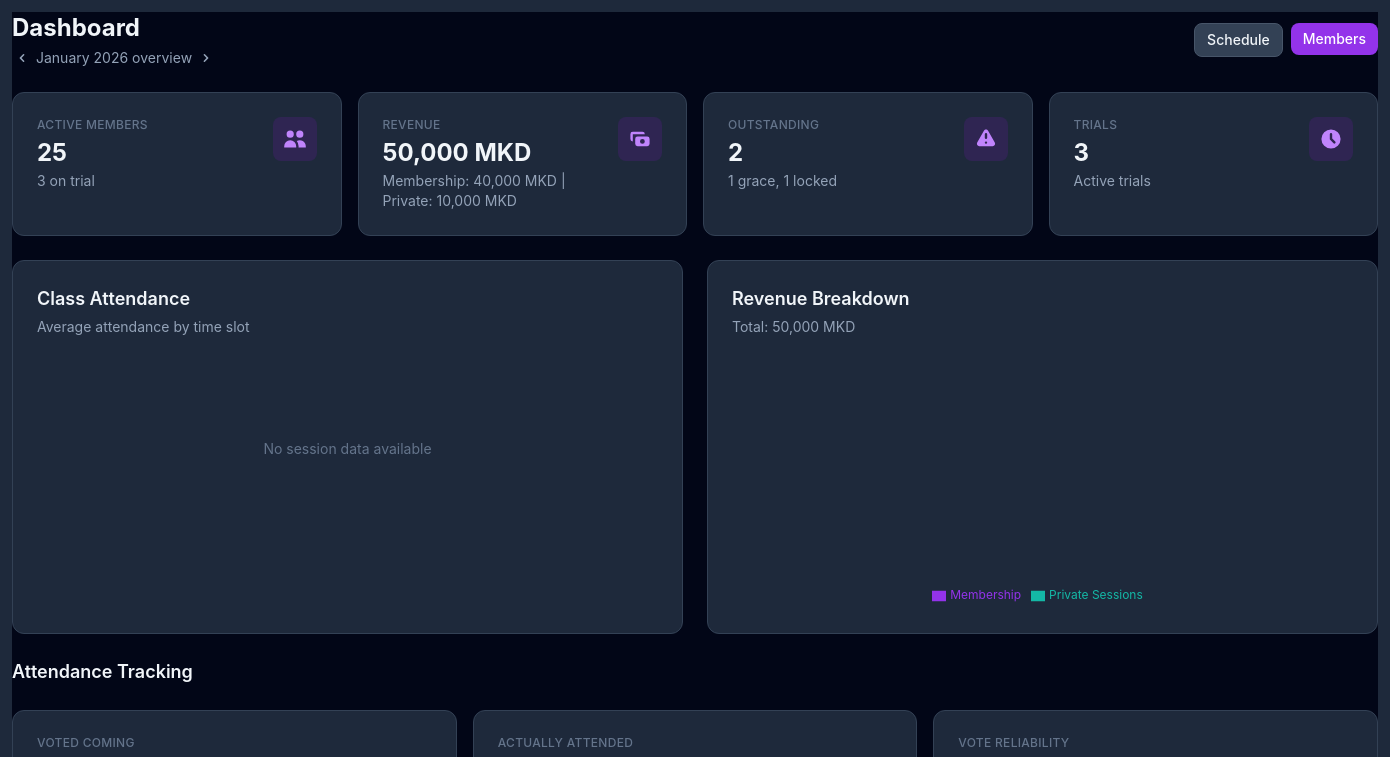
Test case: DashboardClient month navigator › wraps from January to December of previous year
Expected: the text "January 2026 overview" is shown, [36,48,192,68]
What coordinates should you click on to do the following:
click the button named "Previous month"
I would click on:
 (22, 58)
Its box is [12,48,32,68].
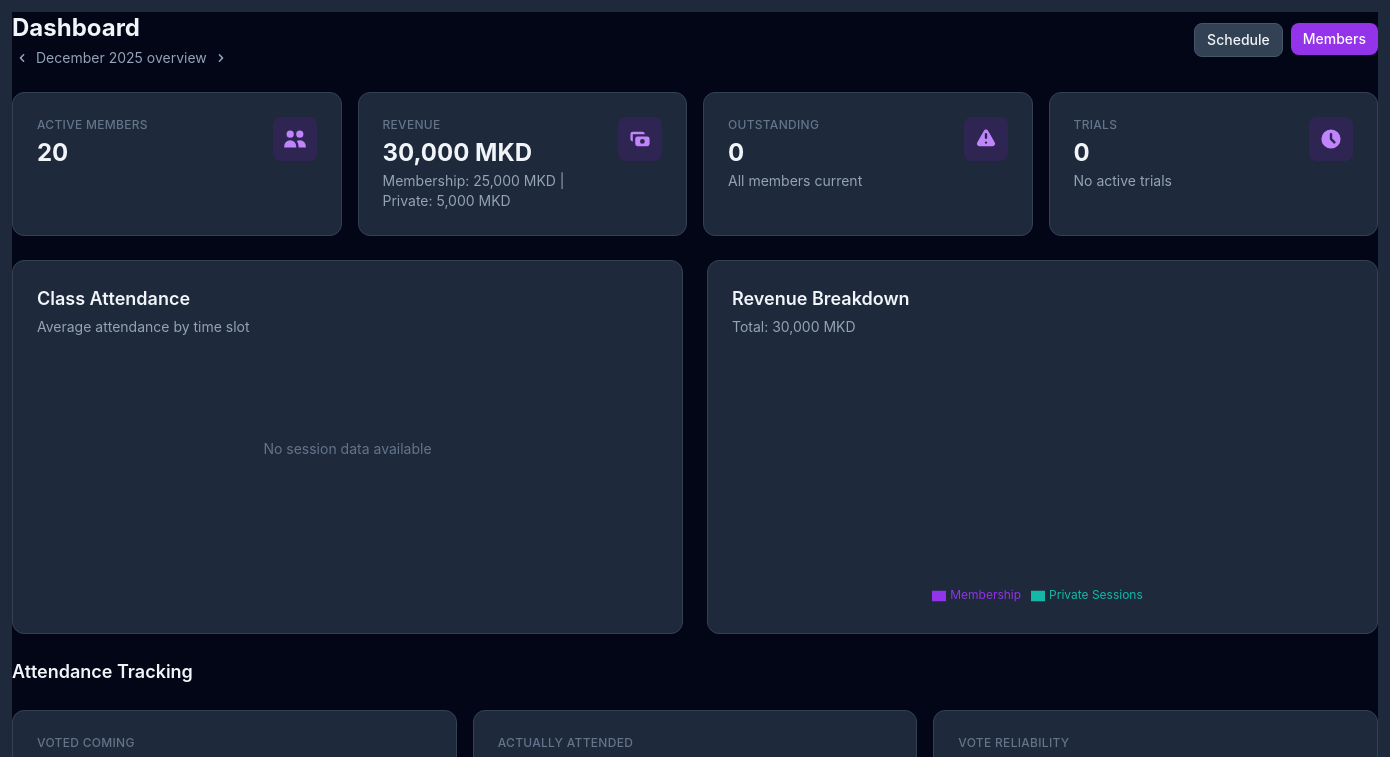
Now the text "December 2025 overview" is shown, box [36,48,207,68]
